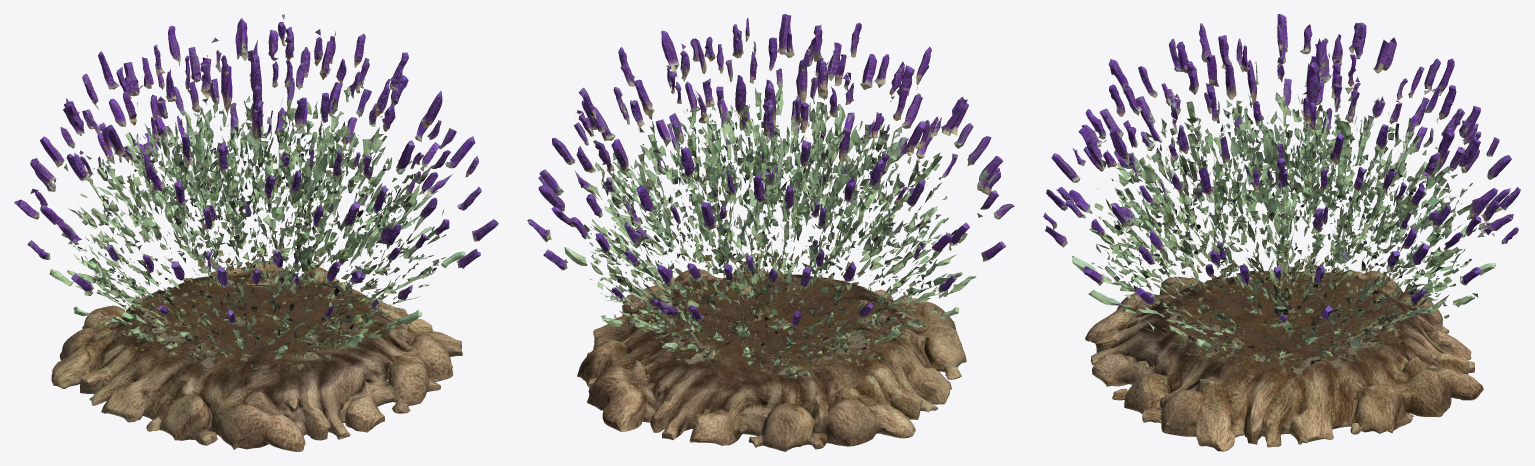
File: raw_meshy_model.glb
The picture shows the model from 3 angles, left to right: view 1: azimuth 30°, elevation 25°; view 2: azimuth 150°, elevation 25°; view 3: azimuth 270°, elevation 25°; orthographic projection.
Size of the model in its own units: 1.88 by 1.42 by 1.88.
Materials: 1 (1 with a texture image).
